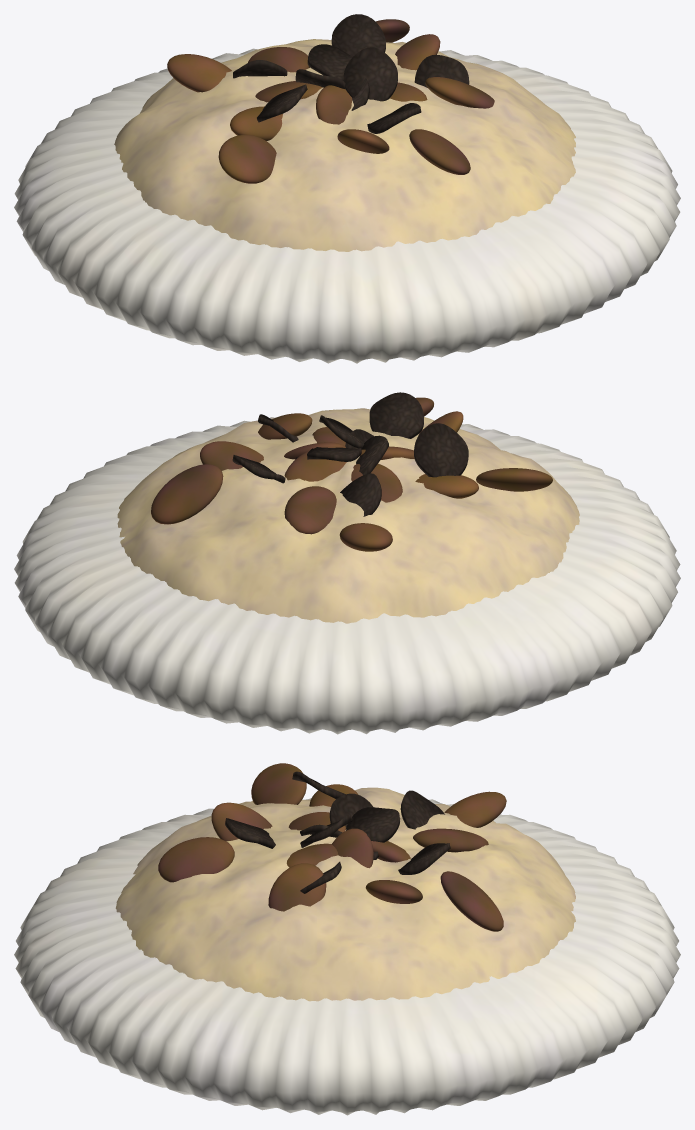
File: truffle-mushroom-risotto-high.glb
3 renders of one model, top to bottom at view 1: azimuth 30°, elevation 25°; view 2: azimuth 150°, elevation 25°; view 3: azimuth 270°, elevation 25°, orthographic.
Visible parts, largest first — view 1: Mesh_Risotto_Porcelain_Bowl, Mesh_Arborio_Risotto_Mound, Mesh_Roasted_Cremini_Slices, Mesh_Shaved_Black_Truffle; view 2: Mesh_Risotto_Porcelain_Bowl, Mesh_Arborio_Risotto_Mound, Mesh_Roasted_Cremini_Slices, Mesh_Shaved_Black_Truffle; view 3: Mesh_Risotto_Porcelain_Bowl, Mesh_Arborio_Risotto_Mound, Mesh_Roasted_Cremini_Slices, Mesh_Shaved_Black_Truffle.
Boxes of the visible parts, x1,y1,x2,y2 form: Mesh_Risotto_Porcelain_Bowl: (14, 48, 680, 363); Mesh_Arborio_Risotto_Mound: (114, 39, 575, 251); Mesh_Roasted_Cremini_Slices: (167, 19, 494, 183); Mesh_Shaved_Black_Truffle: (233, 14, 469, 133); Mesh_Risotto_Porcelain_Bowl: (14, 417, 680, 734); Mesh_Arborio_Risotto_Mound: (117, 408, 579, 623); Mesh_Roasted_Cremini_Slices: (151, 397, 552, 551); Mesh_Shaved_Black_Truffle: (232, 392, 468, 516); Mesh_Risotto_Porcelain_Bowl: (14, 798, 680, 1115); Mesh_Arborio_Risotto_Mound: (115, 787, 575, 1001); Mesh_Roasted_Cremini_Slices: (158, 763, 506, 931); Mesh_Shaved_Black_Truffle: (225, 771, 450, 893).
Size of the model in its own units: 2 by 0.7368 by 2.
Materials: 4 (4 with a texture image).
